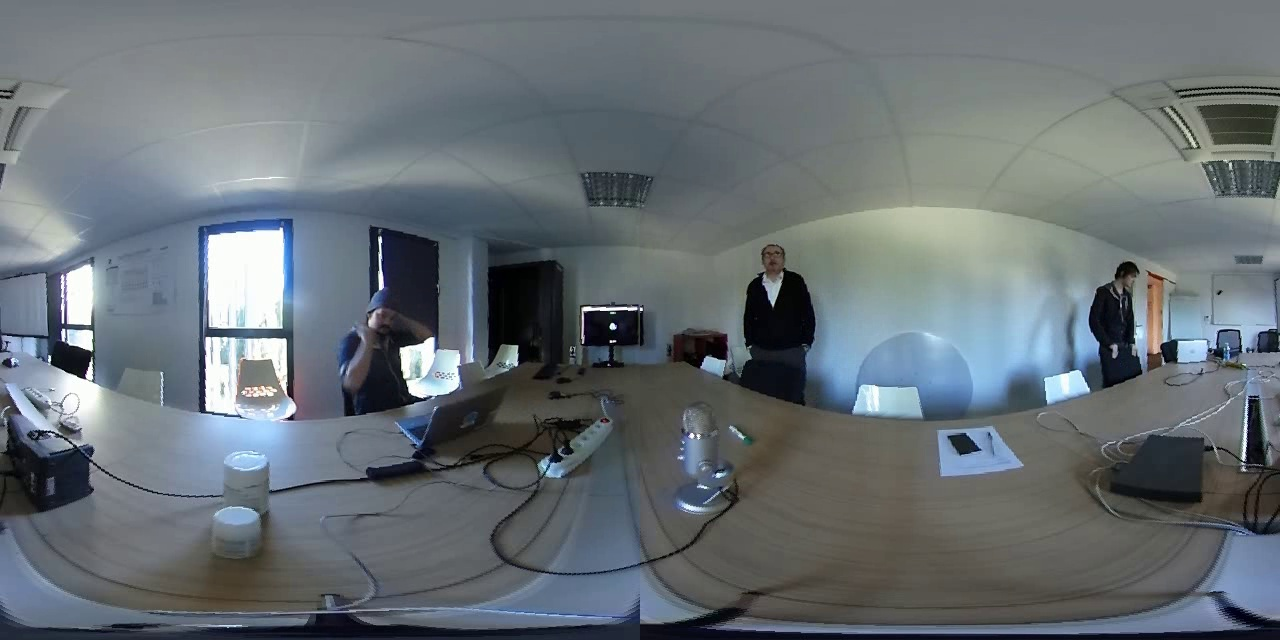person: (737, 224, 819, 385), (337, 279, 423, 409), (1086, 255, 1156, 362)
